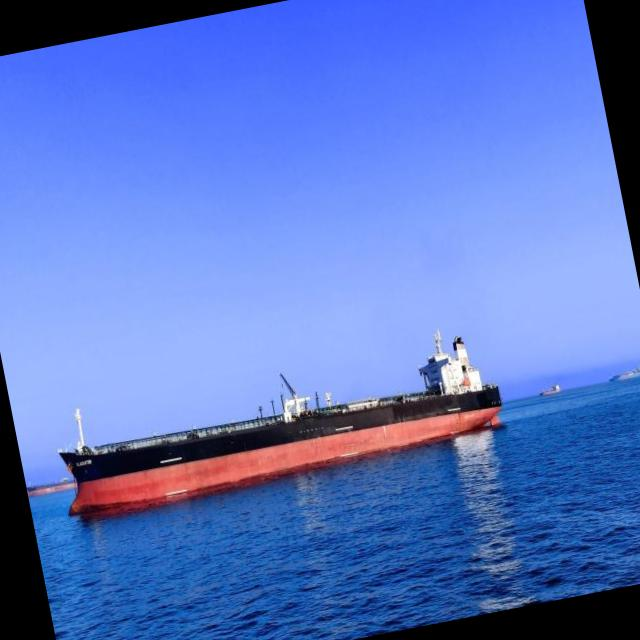Tanker: (61, 337, 502, 516)
